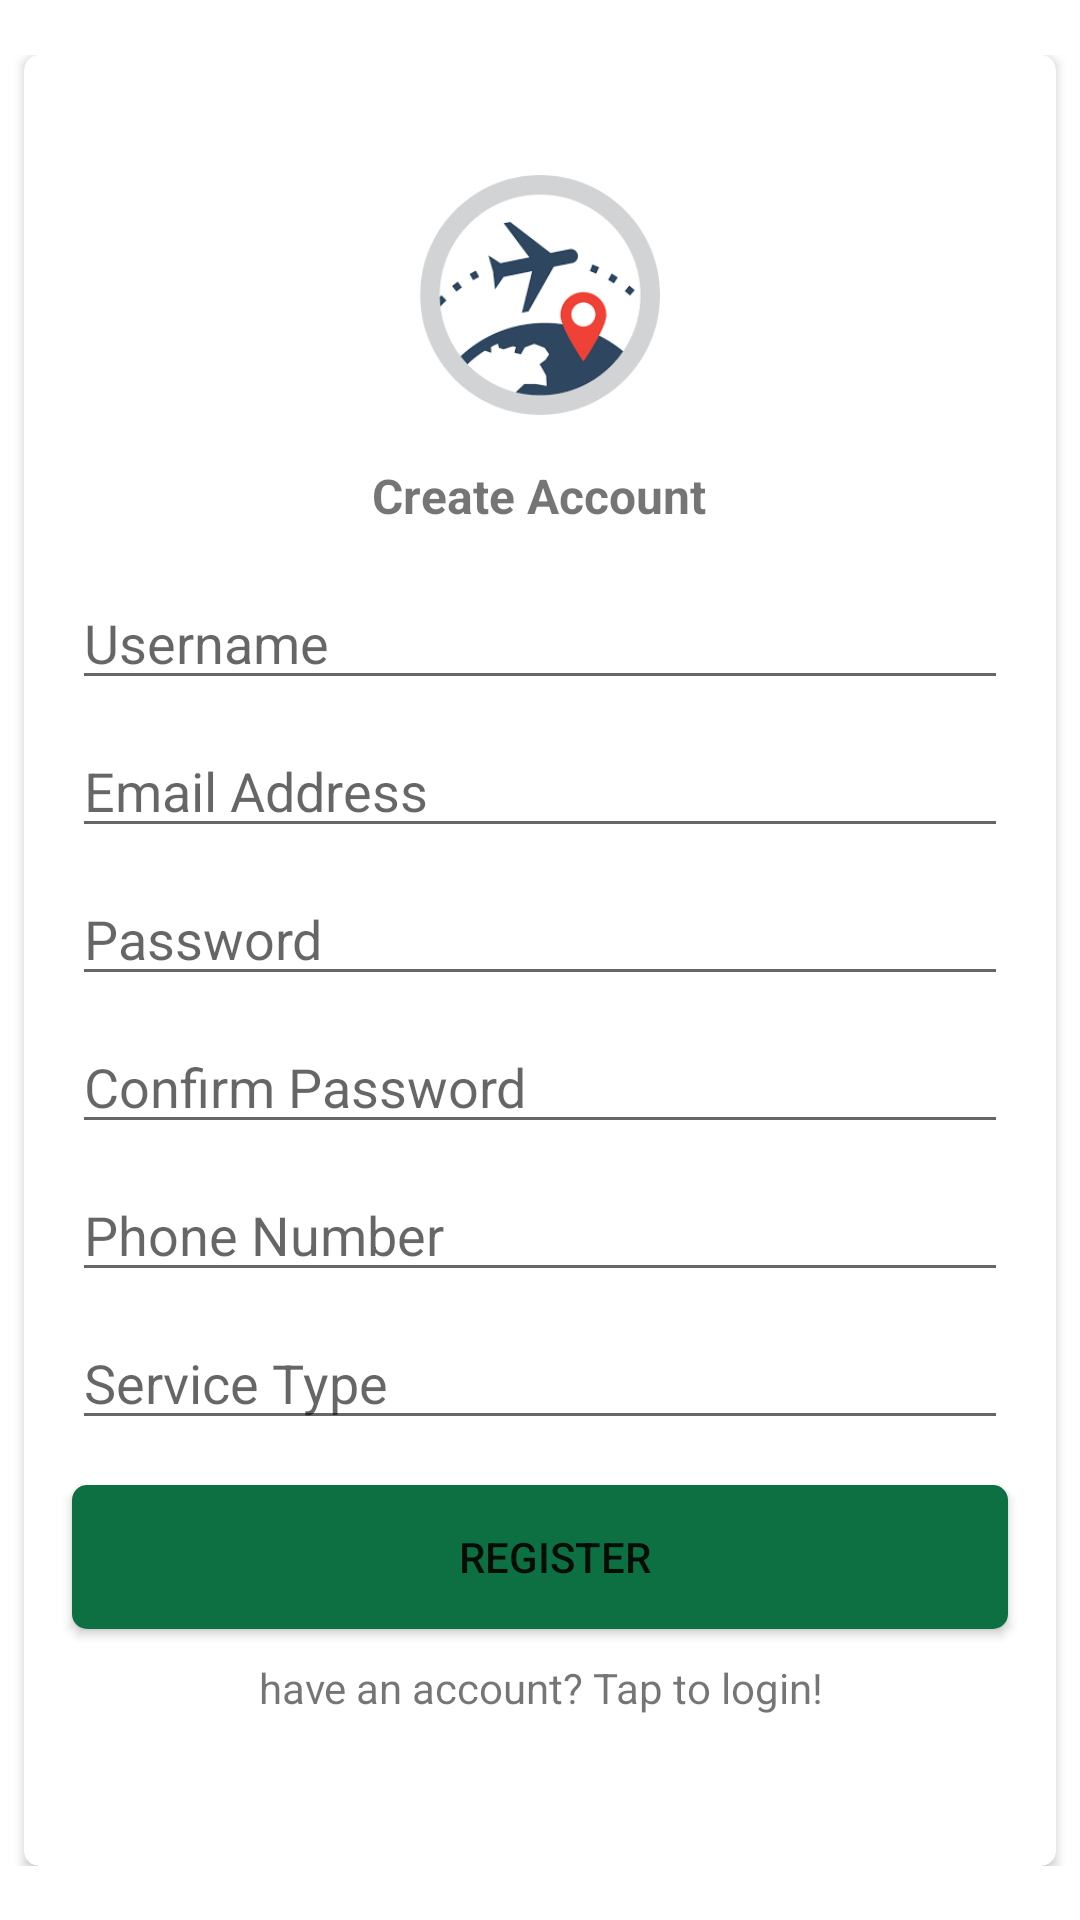

Point at icon controls on the screen. Image size 1080px x 1920px, points as point (x, y).
travel: point (540, 295)
